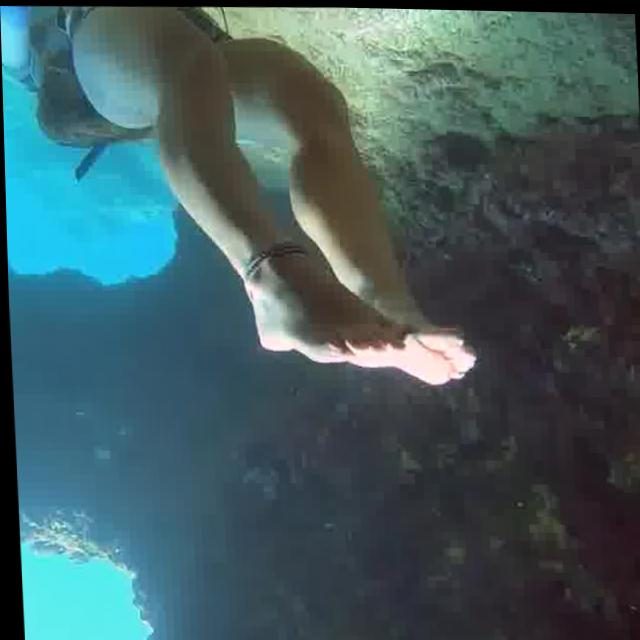human: (0, 0, 493, 407)
